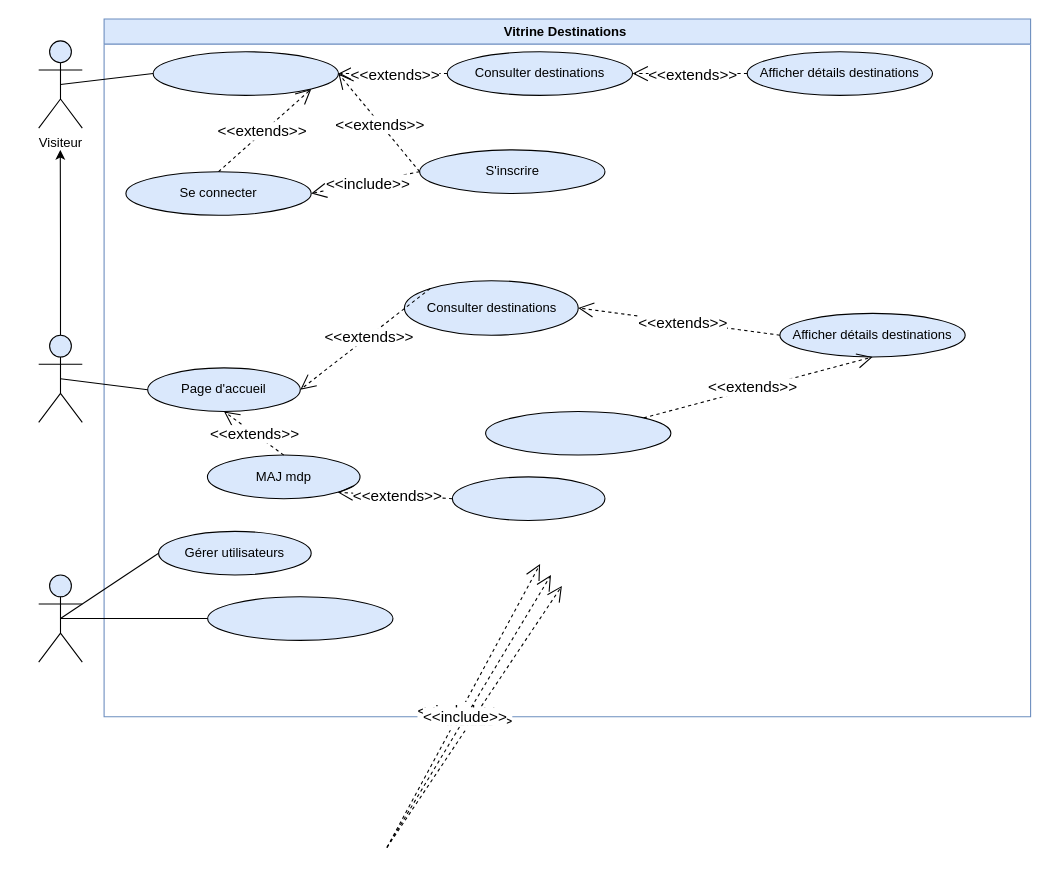
This 1050x882 diagram has some shape labels left out. The centre of each missing label's shape, as x and y in pixels:
"Administrateur (authentifié)" goes at [60,618].
"Afficher MAJ profil" goes at [528,498].
"Ajouter aux favoris" goes at [578,432].
"Consulter page accueil" goes at [245,73].
"gérer les destinations" goes at [300,618].
"Urilisateur (authentifié)" goes at [60,378].
